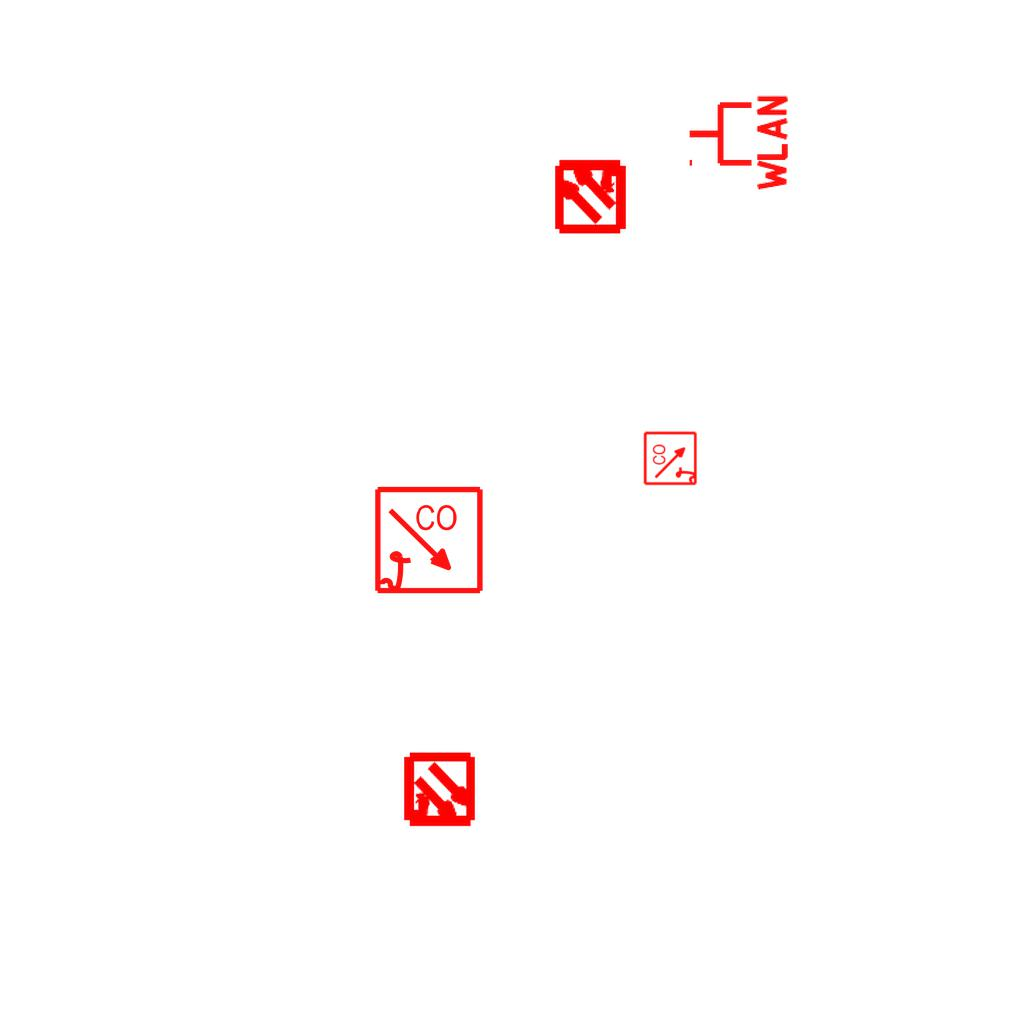OT_Multisensormelder_(Kombination_RMO_WMD): (383, 735, 496, 848), (534, 138, 647, 251)
ROA_Rauchmelder_optisch_mit_Signalgeber_(Sockelsirene): (373, 485, 486, 598), (643, 430, 699, 486)
WLAN: (685, 91, 790, 195)
